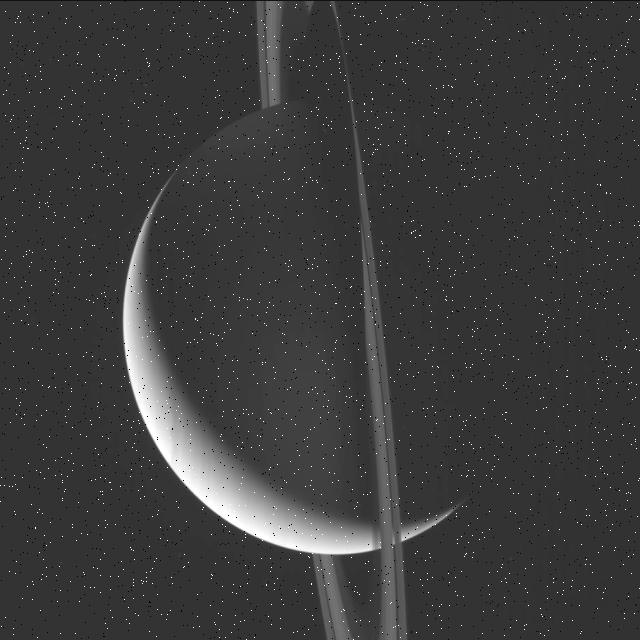Saturn: (121, 0, 511, 640)
